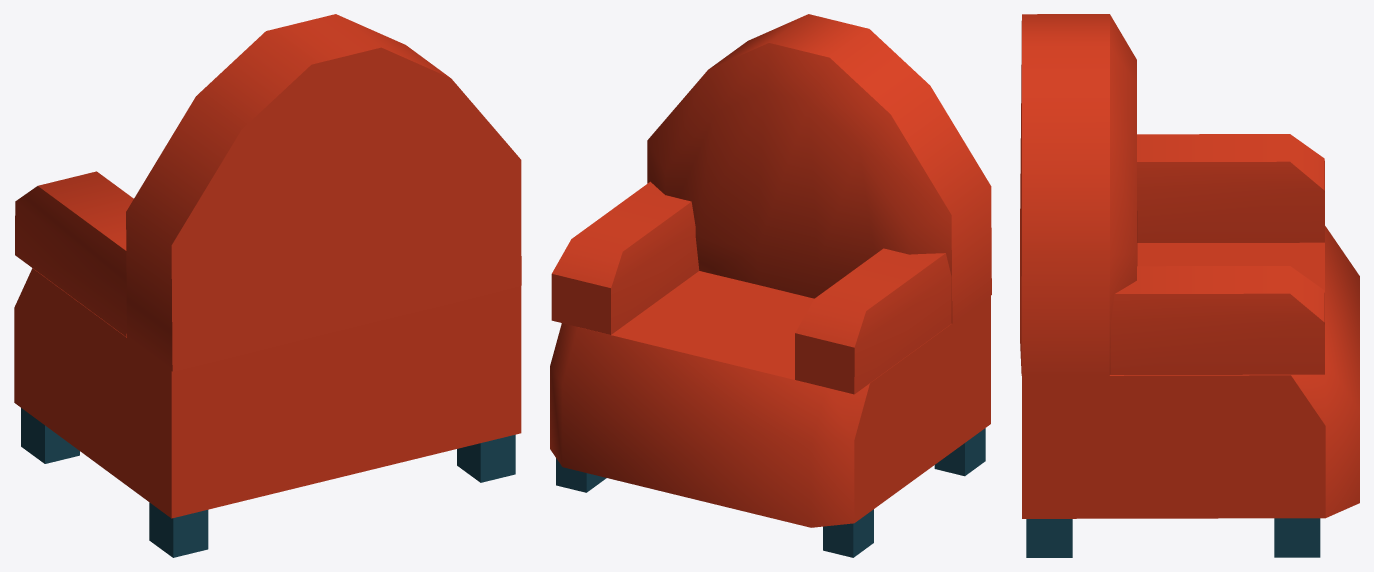
Rendered from Fauteuil.FBX.
3 views of the same model, side by side, from view 1: azimuth 30°, elevation 25°; view 2: azimuth 150°, elevation 25°; view 3: azimuth 270°, elevation 25° (orthographic). The views are drawn at different scales.
Visible parts, largest first — view 1: Fauteuil; view 2: Fauteuil; view 3: Fauteuil.
Part boxes in pixels (x1,y1,x2,y2): Fauteuil: (14, 14, 521, 557); Fauteuil: (550, 14, 991, 557); Fauteuil: (1020, 14, 1359, 557).
Size of the model in its own units: 0.8461 by 1.07 by 0.7363.
